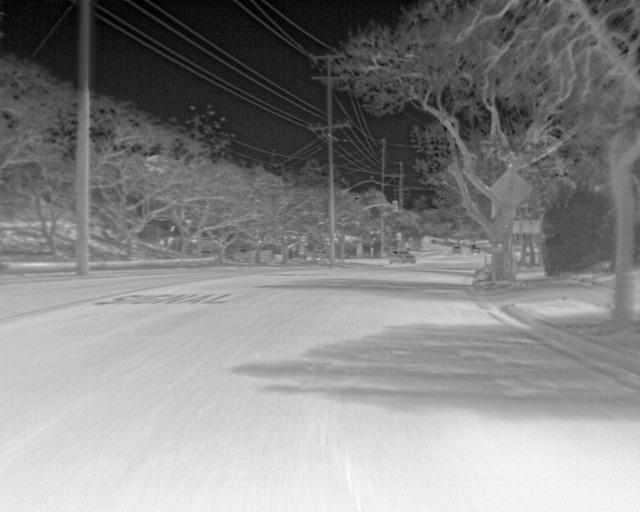car: (389, 249, 416, 265), (307, 250, 327, 260), (471, 244, 480, 254), (453, 246, 461, 253), (430, 239, 437, 244)
light: (393, 200, 398, 212)
sign: (490, 168, 533, 212), (511, 221, 540, 233), (396, 233, 401, 240), (292, 247, 296, 251)
